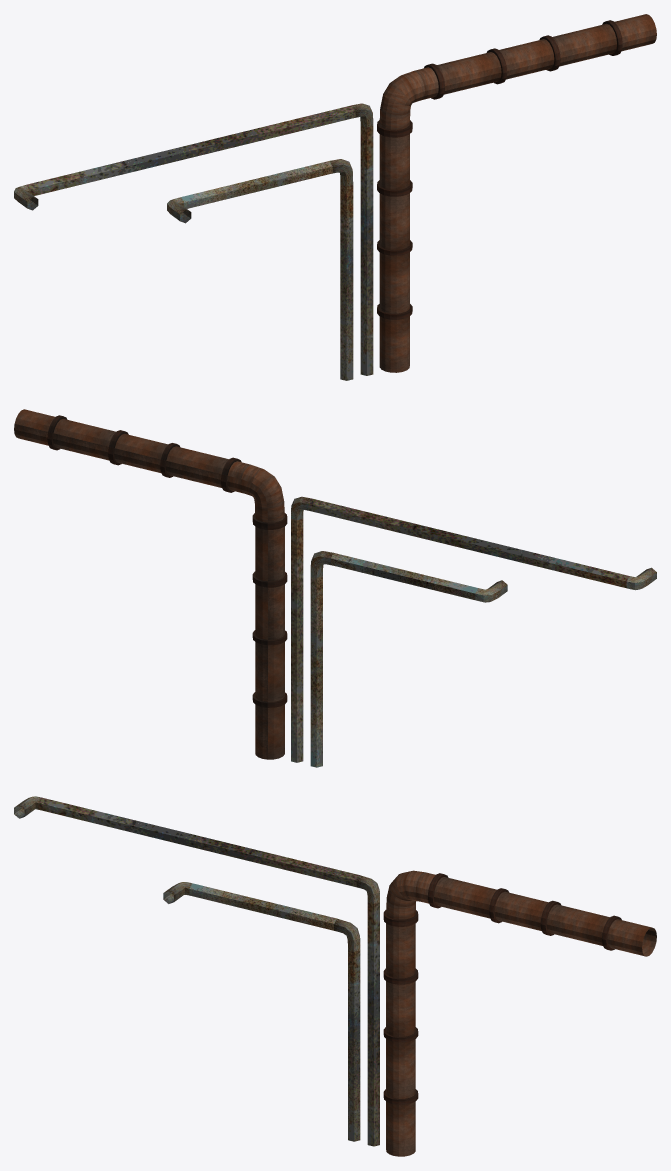
Rendered from Tubulação.fbx.
3 views of the same model, one above another, from view 1: azimuth 30°, elevation 25°; view 2: azimuth 150°, elevation 25°; view 3: azimuth 330°, elevation 25° (orthographic). The views are drawn at different scales.
Parts seen in each view (by area): view 1: Cylinder; view 2: Cylinder; view 3: Cylinder.
Part boxes in pixels (x1=…): Cylinder: x1=14, y1=14, x2=656, y2=380; Cylinder: x1=14, y1=409, x2=656, y2=767; Cylinder: x1=14, y1=796, x2=656, y2=1156.
Bounding box in the file's own units: 898 × 393 × 57.02.
2 materials, 2 textured.
